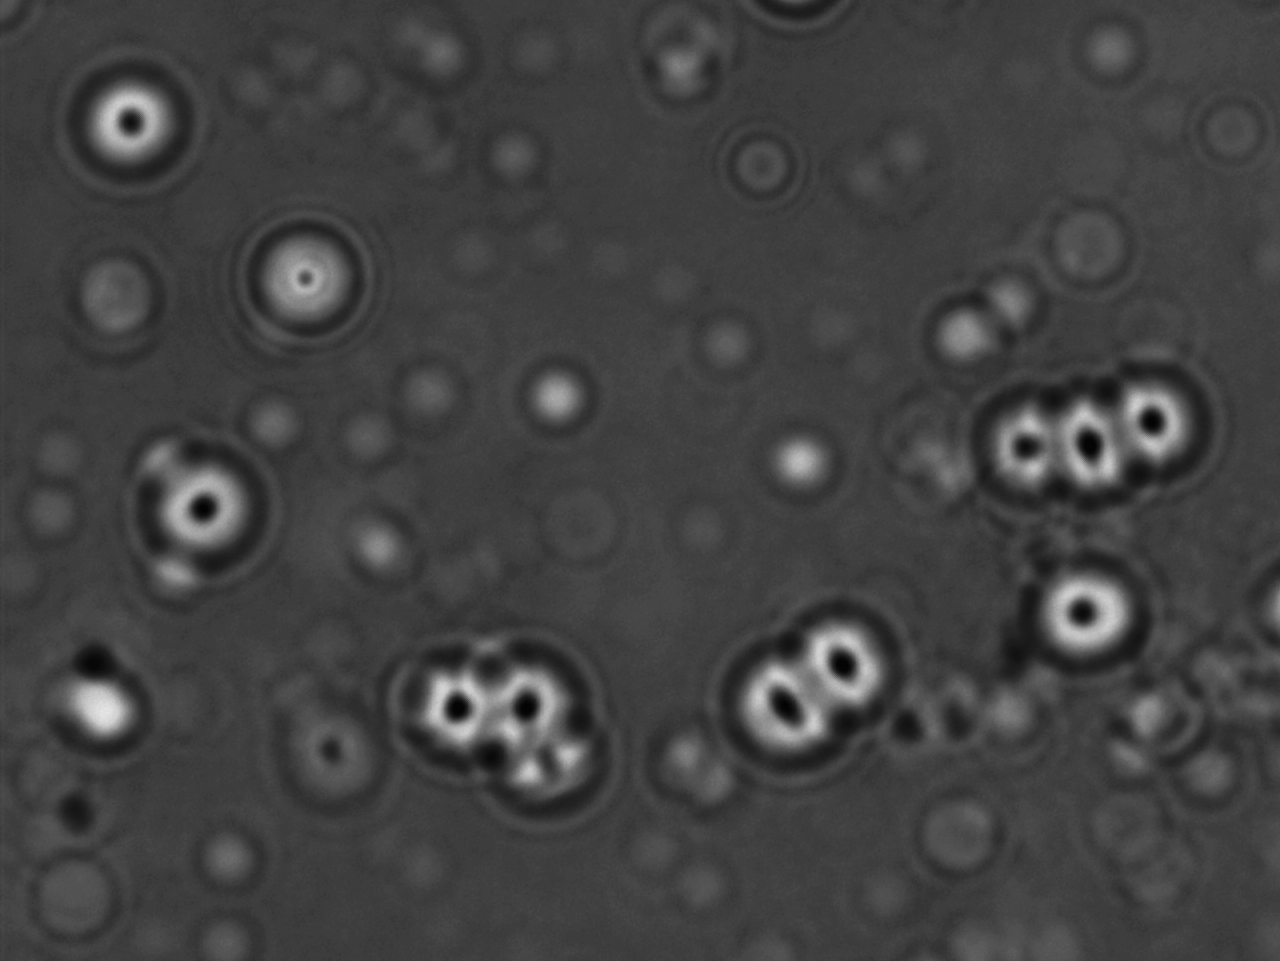depth:24: (123, 436, 278, 583), (63, 58, 211, 191), (1091, 358, 1237, 487), (476, 628, 608, 755), (777, 590, 901, 723), (720, 640, 844, 772), (1026, 548, 1158, 670), (389, 640, 510, 767), (1029, 378, 1151, 498)
